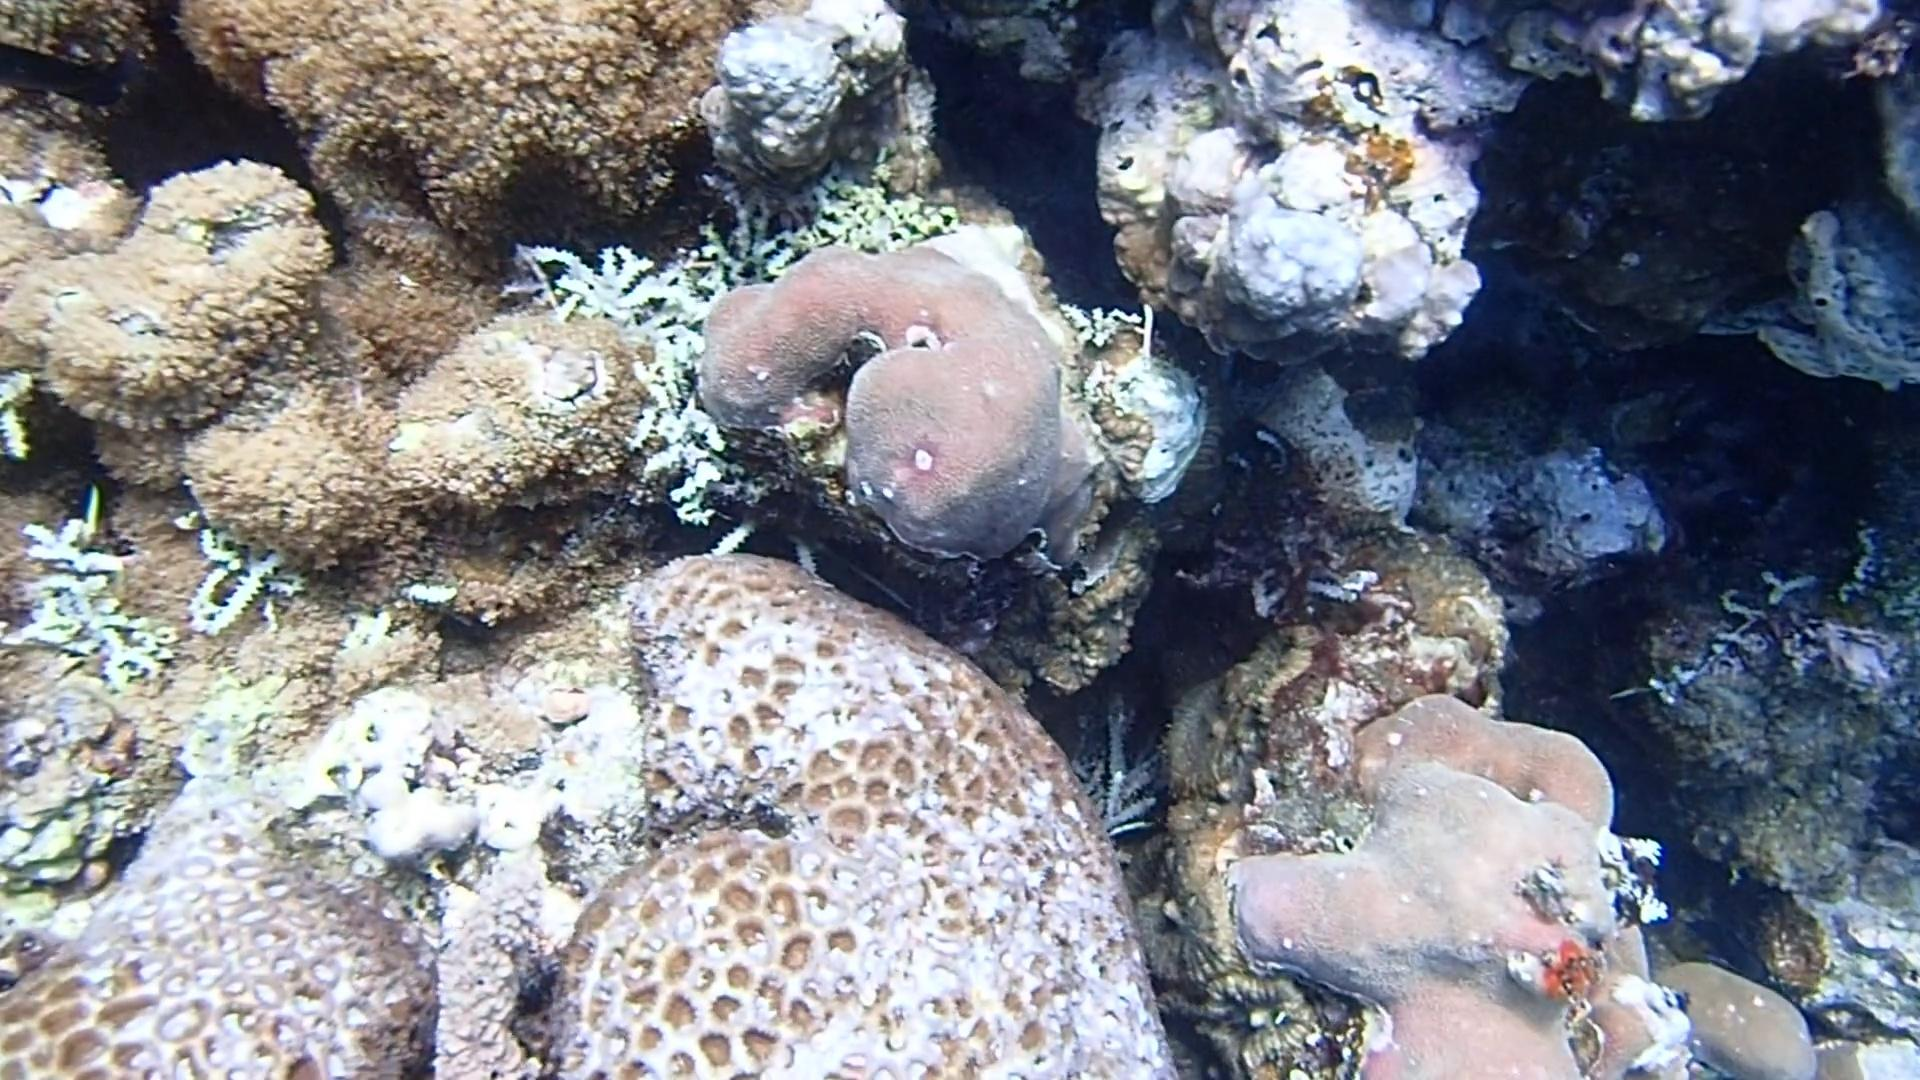Dark Fish: (0, 33, 152, 116)
